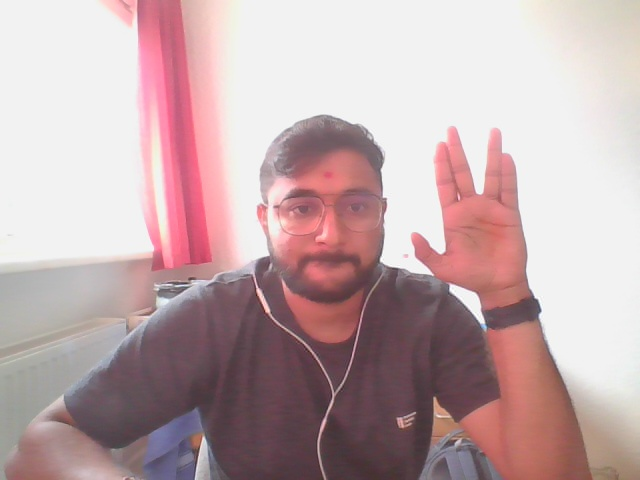LiveLong: (410, 124, 530, 288)
